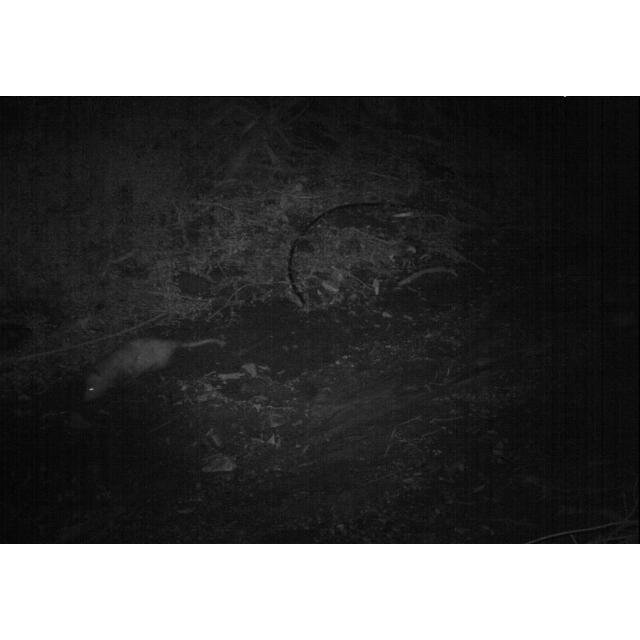animals: (80, 328, 228, 399)
